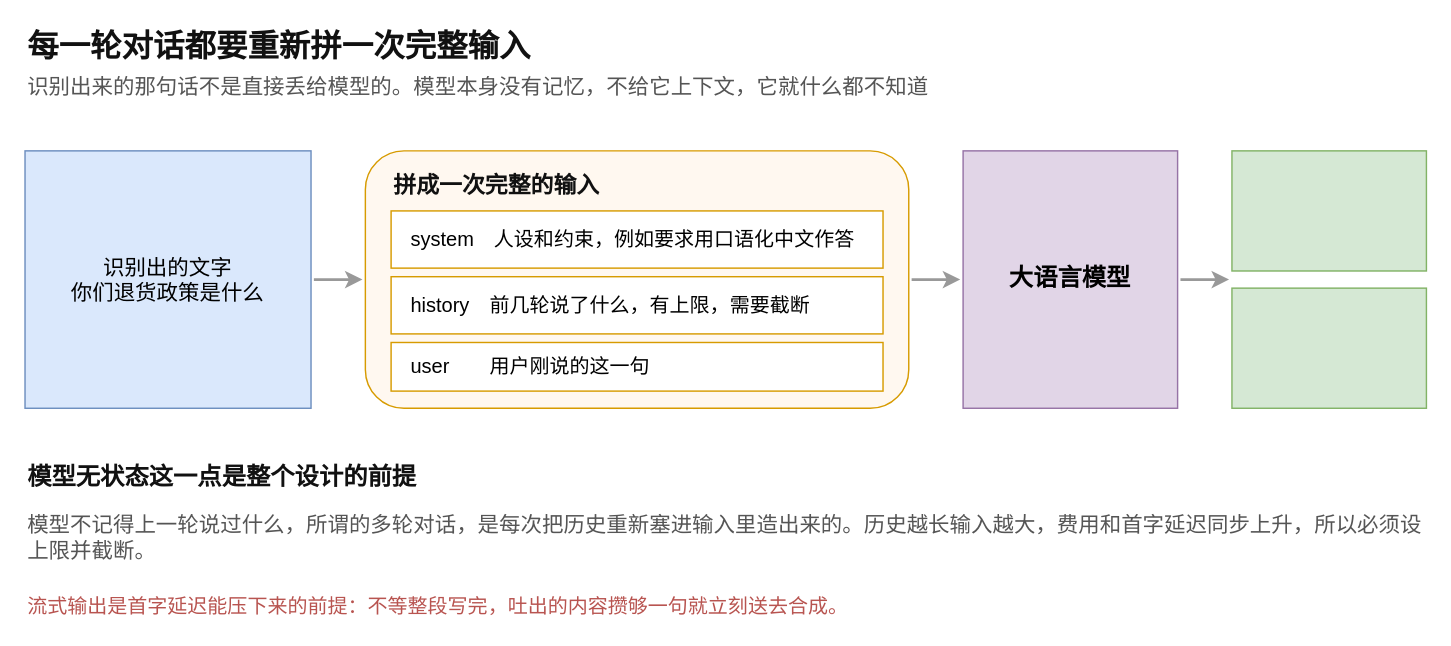
Image size: 1451x646. Some labels were removed from this diagram. Here are the shapes that lost their labels. From the top down, the centre of each, then its label:
[1328,210]: 逐 token 流式吐出回复
[1328,347]: 攒够一句就送去合成
